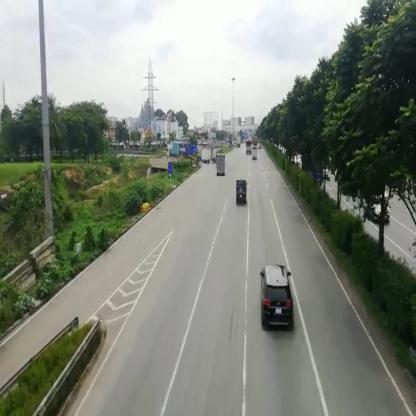car: (261, 265, 293, 333)
container: (167, 142, 194, 157)
truck: (237, 181, 248, 209), (217, 154, 227, 178), (202, 148, 213, 163), (247, 143, 253, 155), (254, 148, 259, 161)
